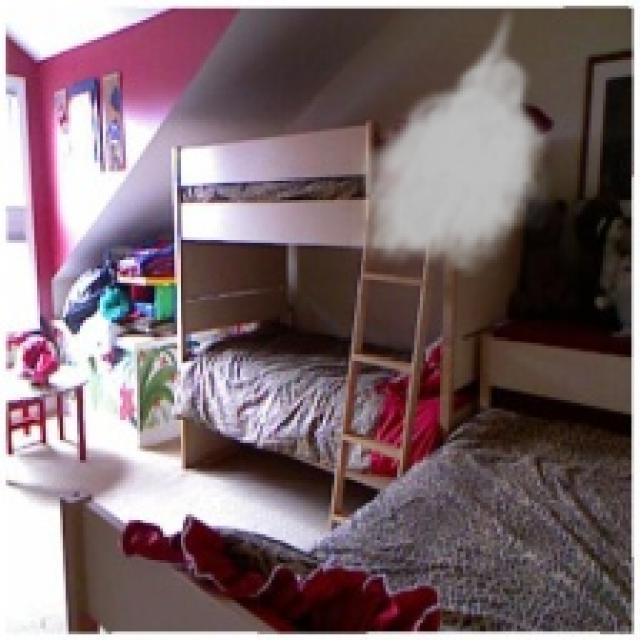Smoke: (348, 2, 554, 278)
